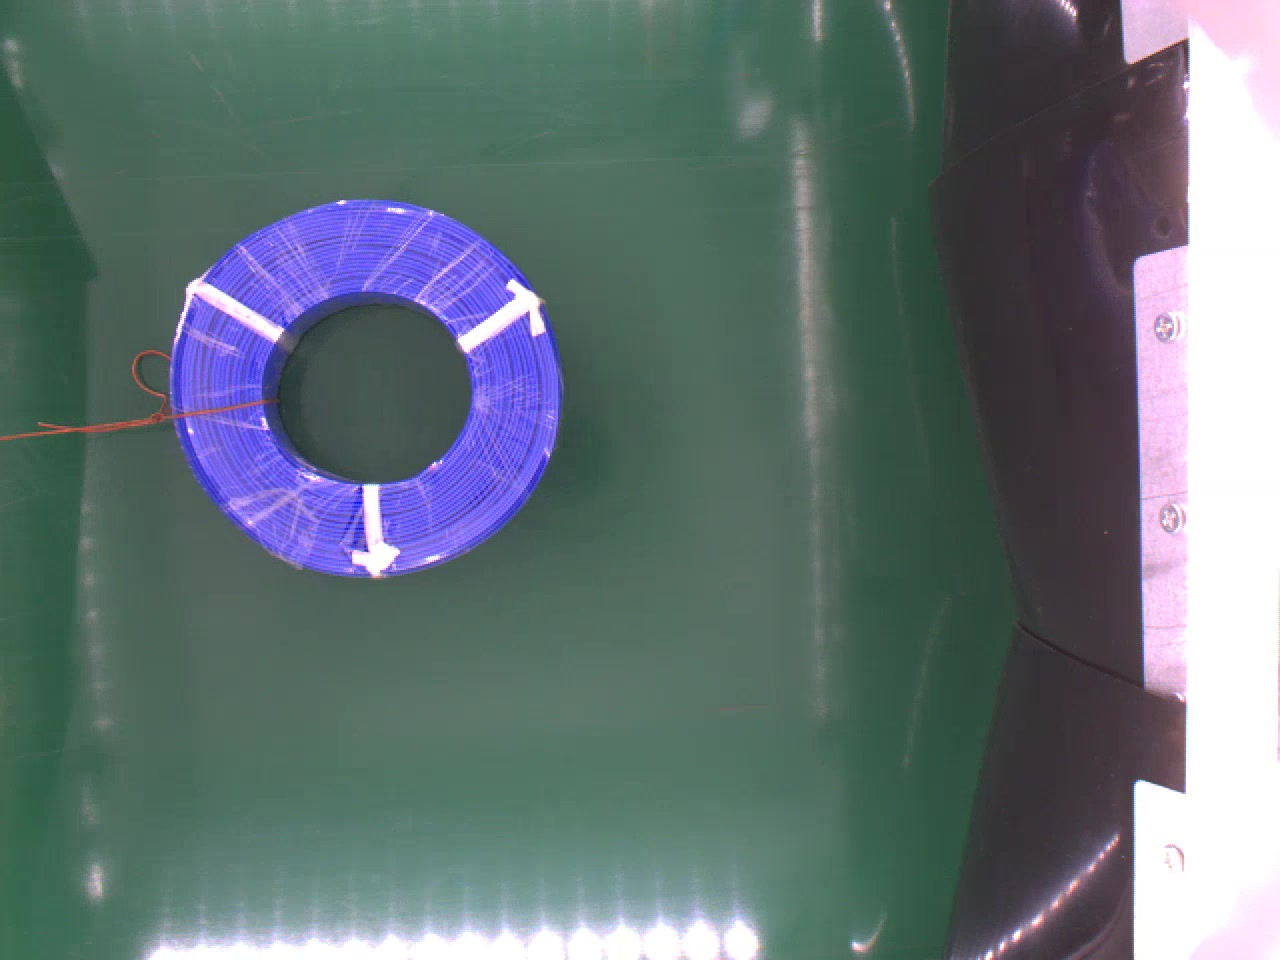blue: (172, 195, 568, 576)
